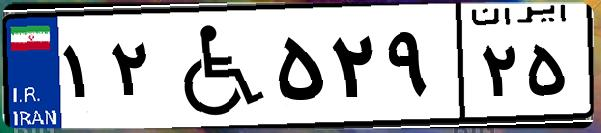1: (57, 26, 110, 100)
2: (330, 28, 385, 110), (475, 38, 525, 113), (110, 28, 158, 98)
5: (270, 28, 330, 110), (525, 38, 570, 115)
9: (385, 28, 445, 110)
ژ (معلولین و جانبازان): (158, 12, 270, 120)
